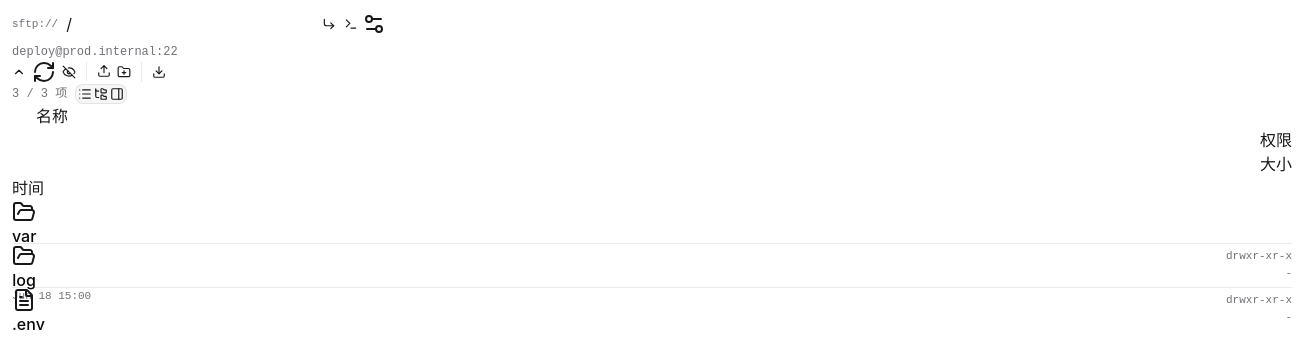
Test case: SftpToolContent selection behavior › preserves multi-selection when right-clicking a selected entry
The image size is (1304, 349).
Click the button with aria-label "打开目录 var" at (24, 224), box 12,200 -> 36,248
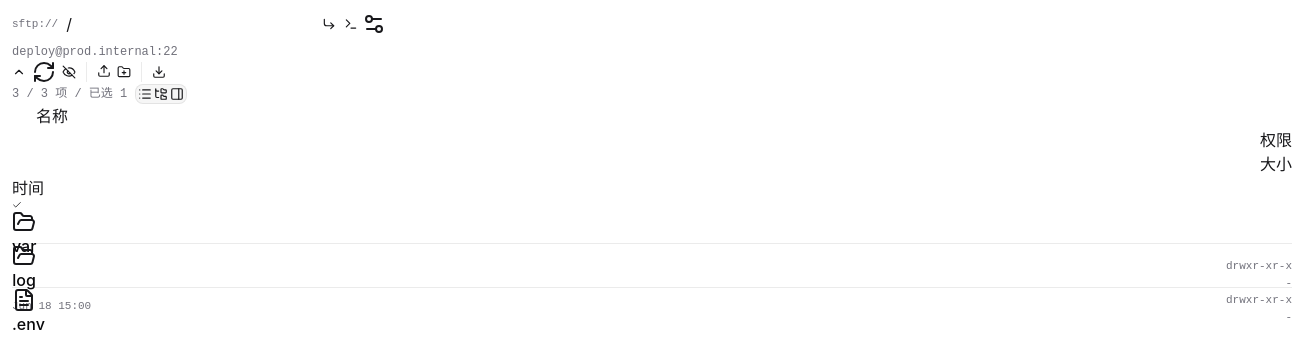
Click the button with aria-label "打开目录 log" at (24, 268), box 12,244 -> 36,292
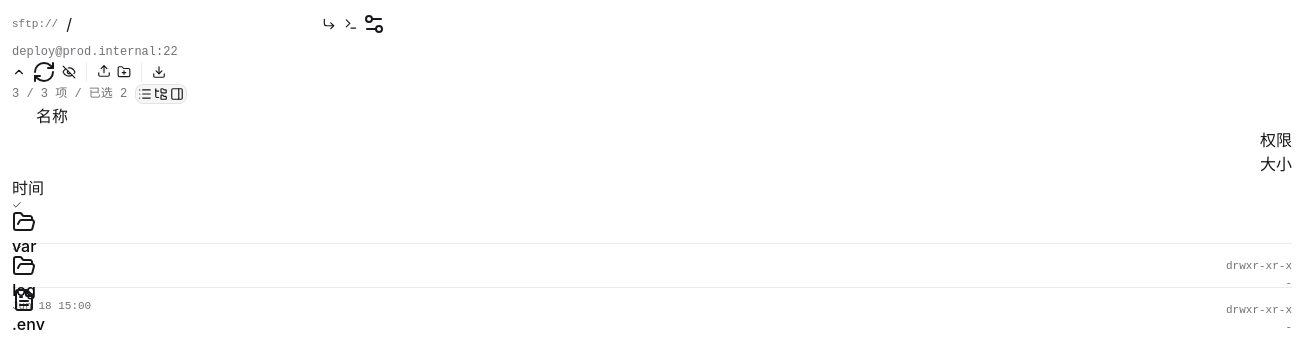
Result: the text "3 / 3 项 / 已选 2" is shown at 12,86 -> 127,102
Right-click the button with aria-label "打开目录 var" at (24, 229), box 12,200 -> 36,258
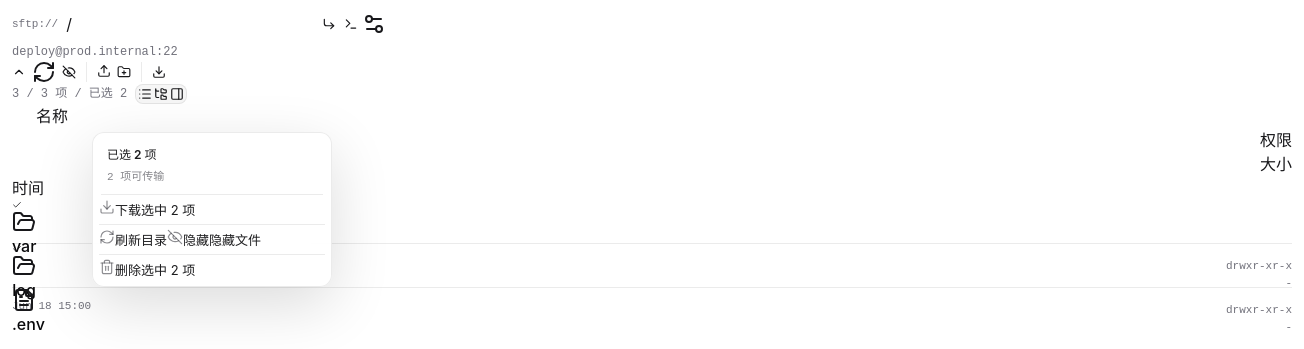
Result: the menu named "SFTP 已选 2 项右键菜单" is shown at 92,132 -> 332,287
Result: the menu item "下载选中 2 项" is shown at 99,199 -> 195,220
Result: the menu item "删除选中 2 项" is shown at 99,259 -> 195,280
